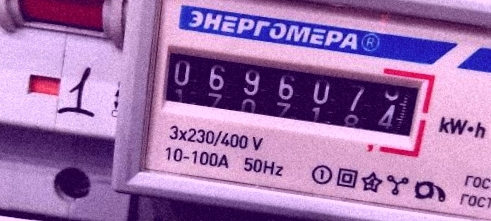0: (168, 56, 194, 89), (309, 76, 332, 107)
4: (373, 100, 396, 132)
6: (273, 70, 298, 104), (204, 61, 227, 93)
7: (344, 80, 366, 113)
9: (239, 66, 263, 98)
screen: (145, 27, 439, 160)
